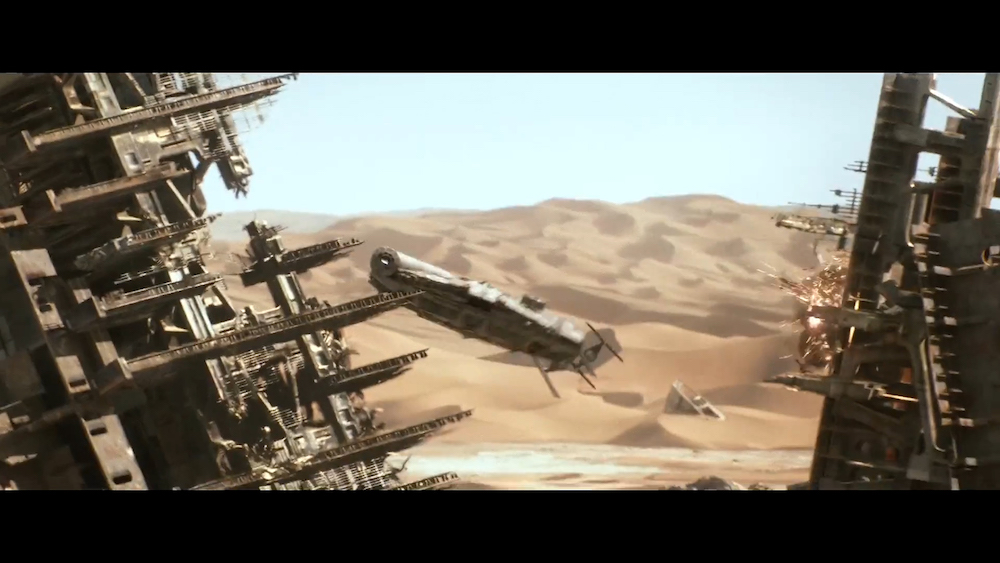Millennium Falcon: (366, 249, 587, 367)
Tie Fighter: (558, 322, 625, 390), (528, 333, 597, 399)
